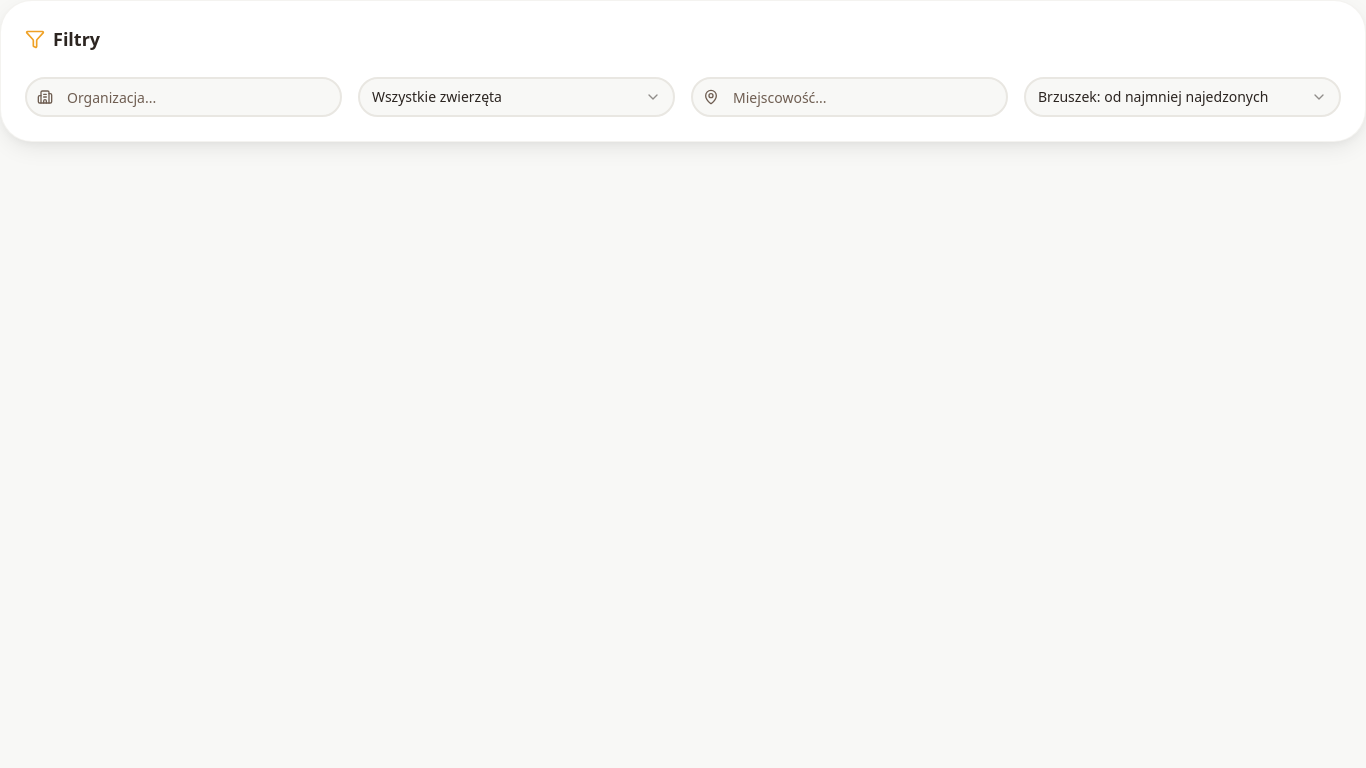
Test case: AnimalFilters › Clear Filters › should show clear button when city filter is active
Step 1. Type "Warszawa" into the field with placeholder "Miejscowość..." → (850, 97), box [691,77,1008,117]
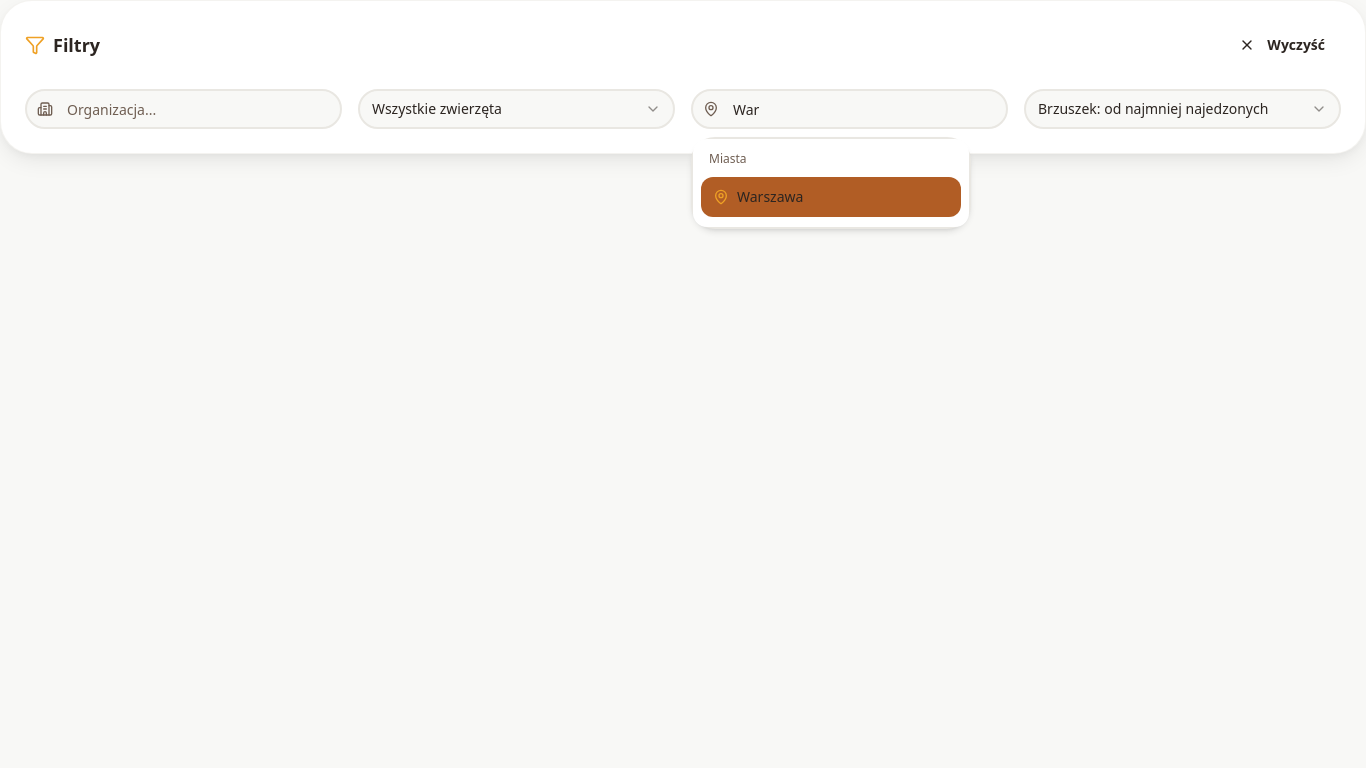
Expected: the button "Wyczyść" is shown, [1223,25,1341,65]
